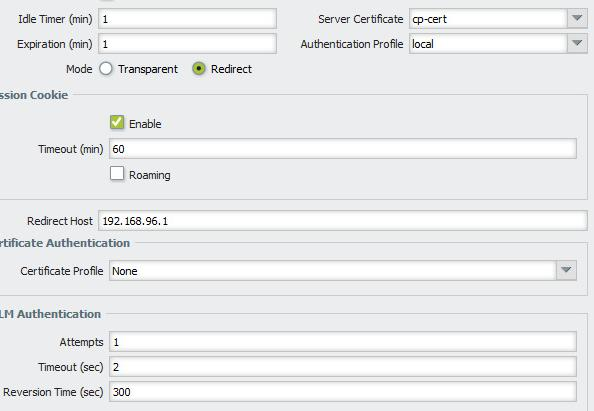checkbox: (107, 112, 128, 131), (109, 165, 125, 181)
checkbox_with_label: (108, 163, 171, 183), (104, 110, 160, 131)
field: (108, 378, 579, 404), (97, 208, 590, 232), (108, 354, 579, 379), (108, 259, 580, 283), (107, 136, 578, 160), (107, 330, 577, 354), (406, 5, 590, 29), (97, 31, 278, 55), (407, 32, 588, 56), (97, 7, 278, 30)
field_with_label: (3, 378, 581, 406), (27, 206, 592, 234), (22, 258, 581, 285), (39, 134, 581, 161), (39, 353, 579, 379), (60, 329, 579, 354), (318, 3, 592, 31), (300, 31, 590, 57), (17, 6, 280, 32), (17, 31, 280, 57)
radio: (190, 60, 208, 78), (96, 59, 112, 75)
radio_with_label: (94, 58, 179, 77), (188, 57, 252, 79)
